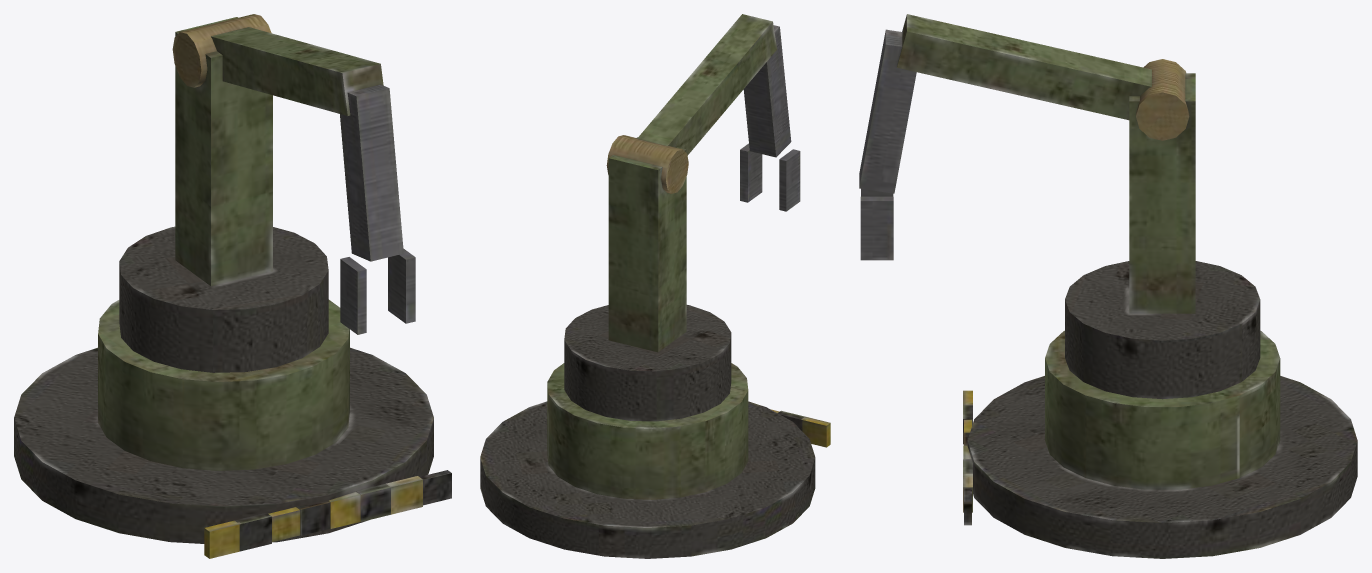
The model's file is feMechArm.glb.
3 views of the same model, side by side, from view 1: azimuth 30°, elevation 25°; view 2: azimuth 150°, elevation 25°; view 3: azimuth 270°, elevation 25° (orthographic). The views are drawn at different scales.
Visible parts, largest first — view 1: feMechArm_Base, FeArmYaw; view 2: feMechArm_Base, FeArmYaw; view 3: feMechArm_Base, FeArmYaw.
Boxes of the visible parts, box(x1,y1,x2,y2) form: feMechArm_Base: box(14, 299, 451, 558); FeArmYaw: box(119, 14, 415, 372); feMechArm_Base: box(480, 363, 830, 558); FeArmYaw: box(564, 14, 800, 421); feMechArm_Base: box(963, 330, 1357, 558); FeArmYaw: box(859, 14, 1260, 399).
Size of the model in its own units: 0.6012 by 0.7719 by 0.768.
1 material, 1 textured.
